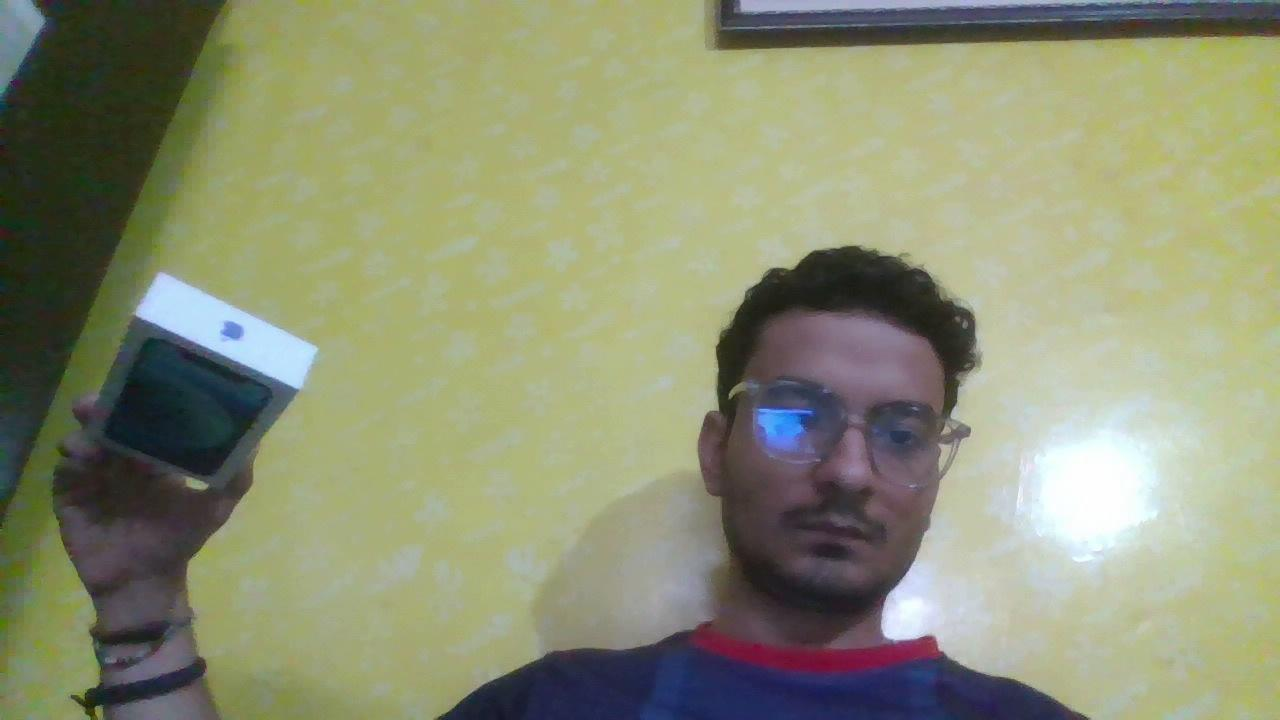Phone: (76, 233, 327, 526)
